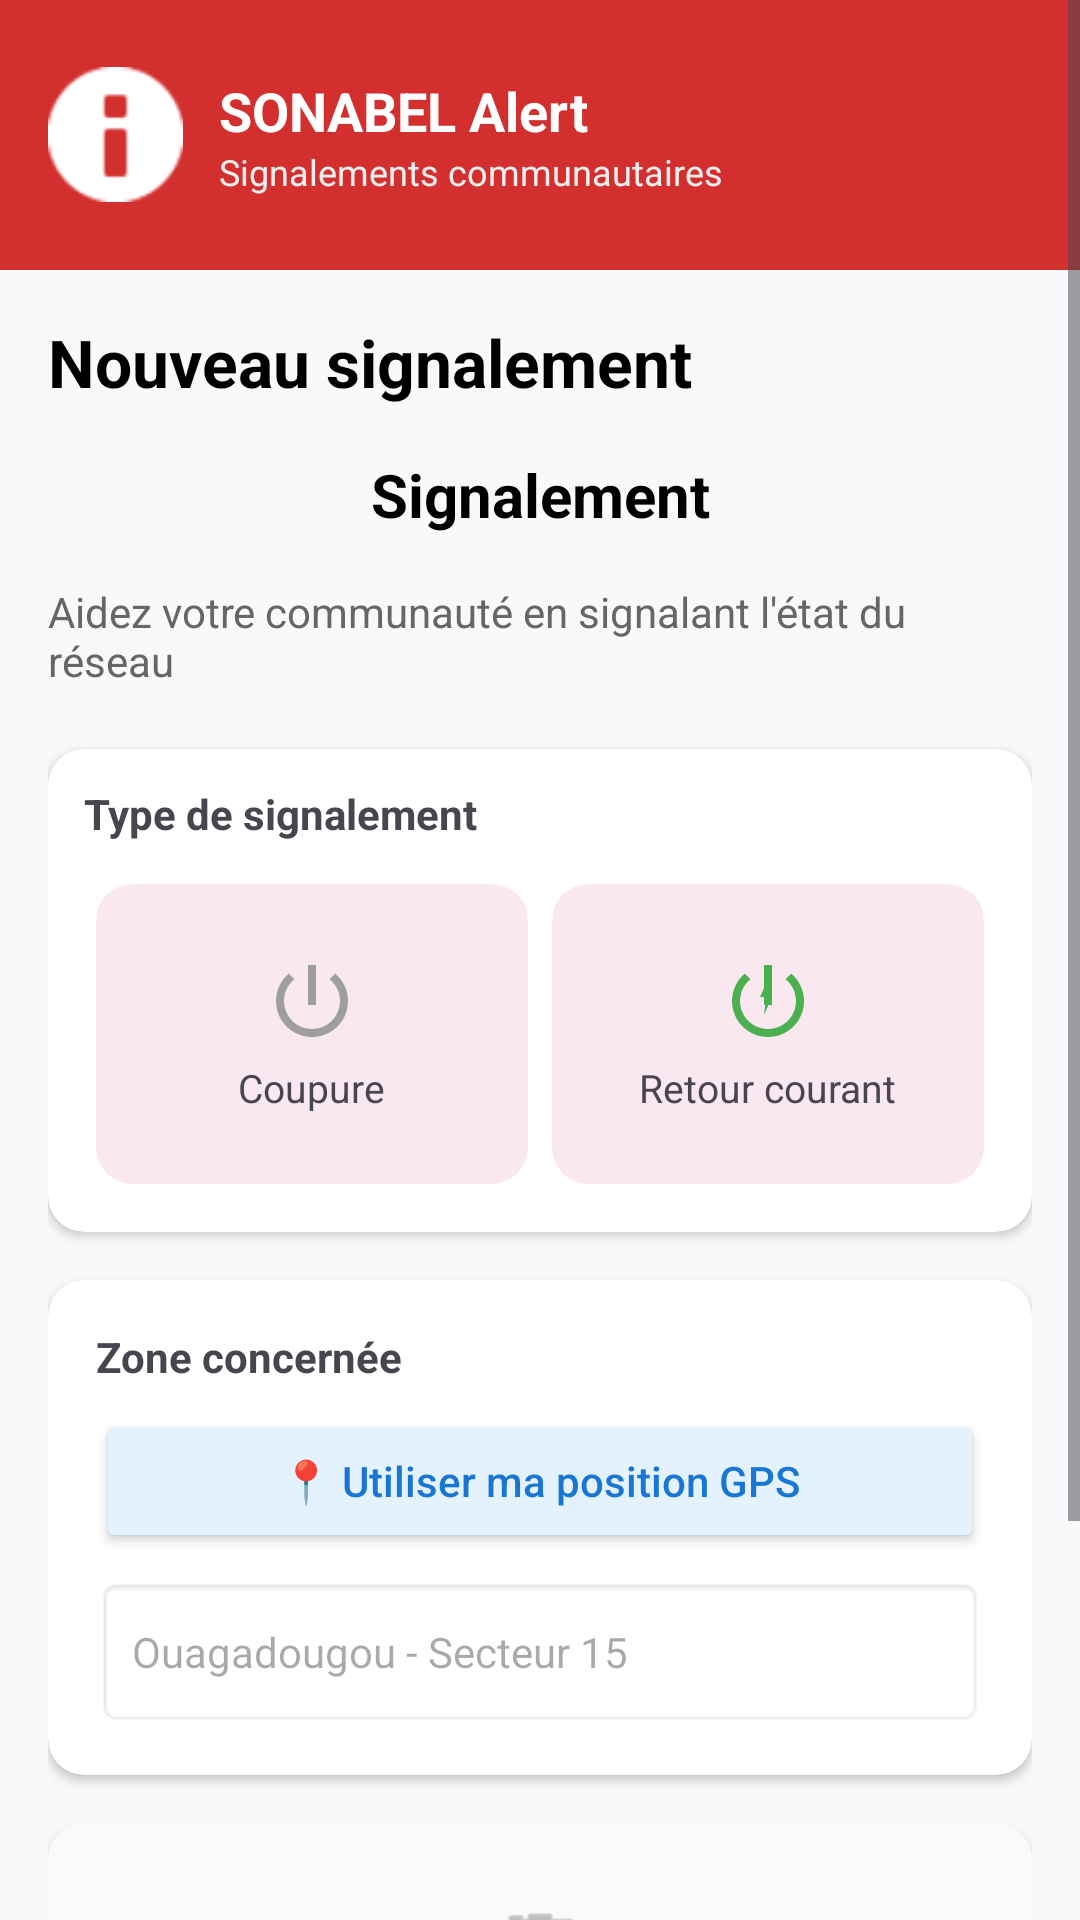

Screen size 1080×1920. Icon name, then its box in pixels as (x1, y1, x2, y2):
info: (48, 67, 183, 202)
power off: (276, 965, 348, 1037)
power on: (732, 965, 804, 1037)
